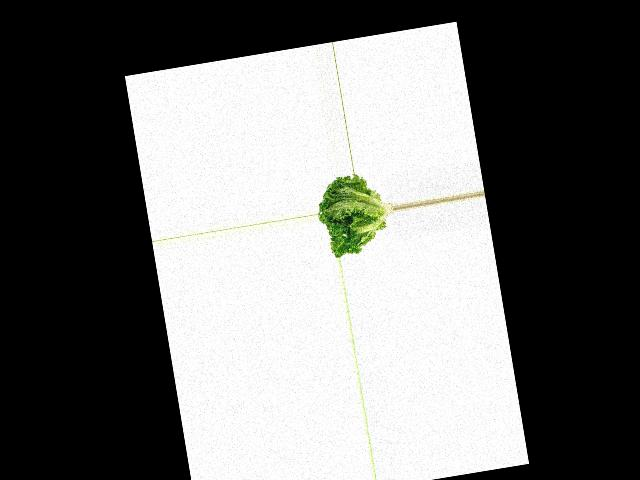lettuce: (313, 168, 399, 259)
